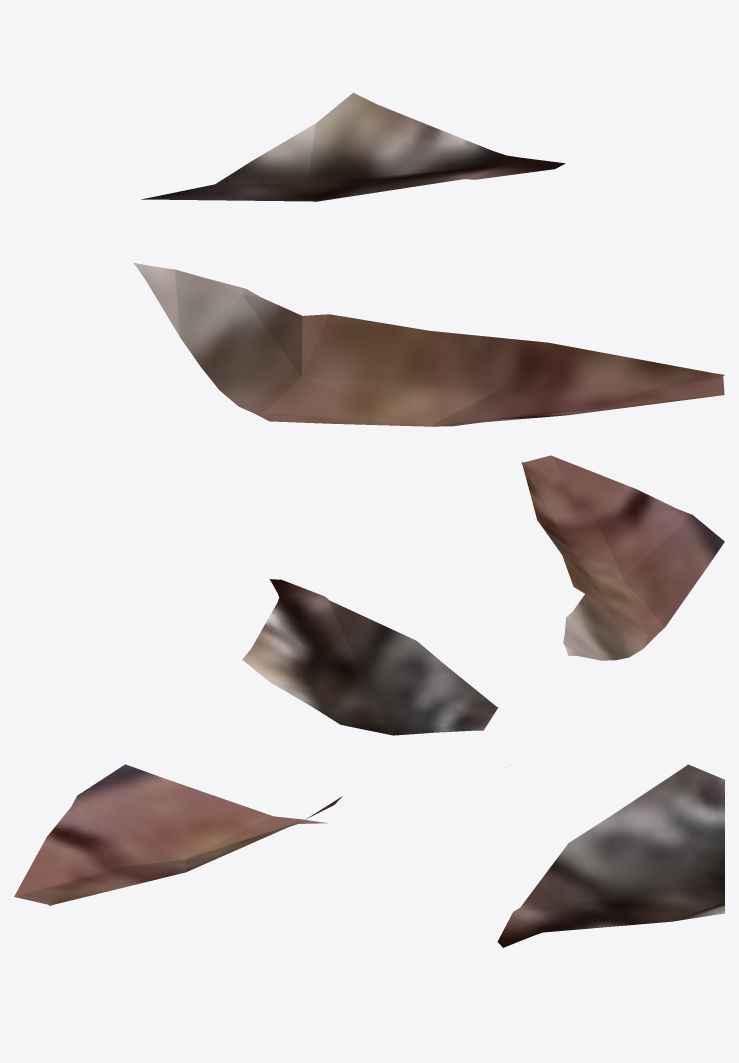
3 views of the same model, one above another, from view 1: azimuth 30°, elevation 25°; view 2: azimuth 150°, elevation 25°; view 3: azimuth 270°, elevation 25° (orthographic). The views are drawn at different scales.
Size of the model in its own units: 0.3632 by 0.0351 by 0.3837.
1 material, 1 textured.
